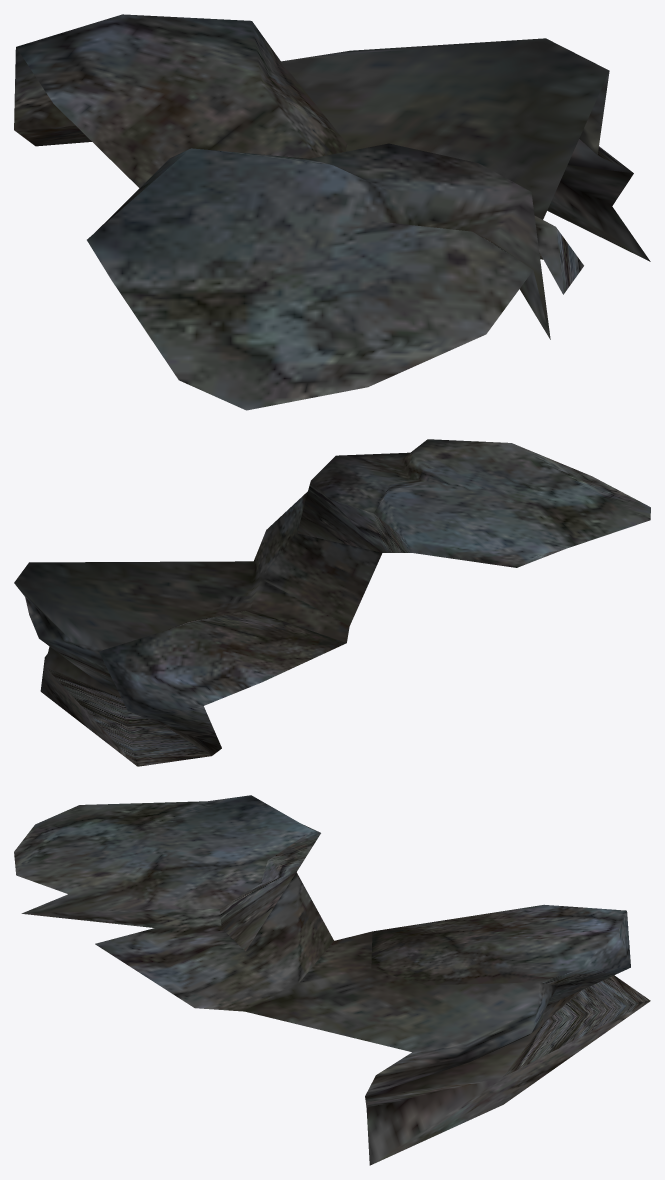
The model's file is S_Rock_Yellow034_H20.FBX.
3 renders of one model, top to bottom at view 1: azimuth 30°, elevation 25°; view 2: azimuth 150°, elevation 25°; view 3: azimuth 270°, elevation 25°, orthographic. The views are drawn at different scales.
Parts seen in each view (by area): view 1: S_Rock_Yellow034_H20; view 2: S_Rock_Yellow034_H20; view 3: S_Rock_Yellow034_H20.
Part boxes in pixels (box(x1,y1,x2,y2)): S_Rock_Yellow034_H20: box(14, 14, 650, 410); S_Rock_Yellow034_H20: box(14, 439, 650, 766); S_Rock_Yellow034_H20: box(14, 795, 650, 1165).
Size of the model in its own units: 992 by 1208 by 370.
1 material, 1 textured.
